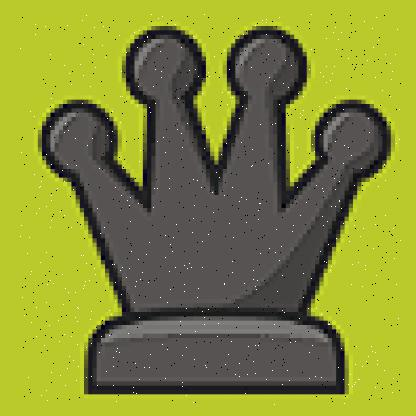Black Queen: (20, 15, 402, 406)
